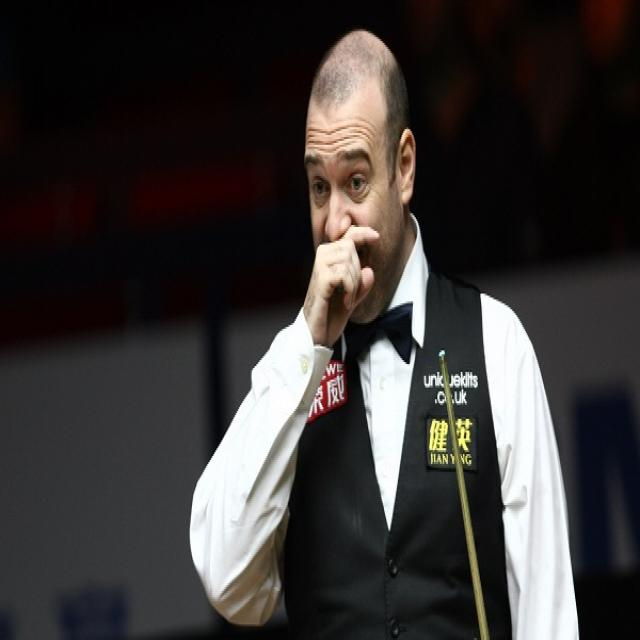nomask: (305, 99, 395, 312)
